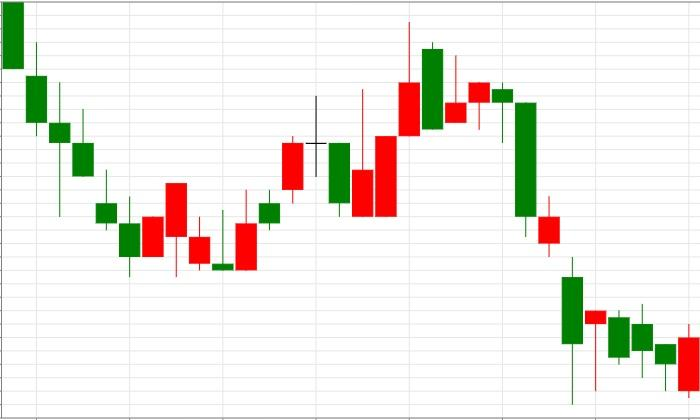bullish_engulfing_rise: (492, 82, 700, 405)
evening_star_fall: (212, 96, 350, 271)
